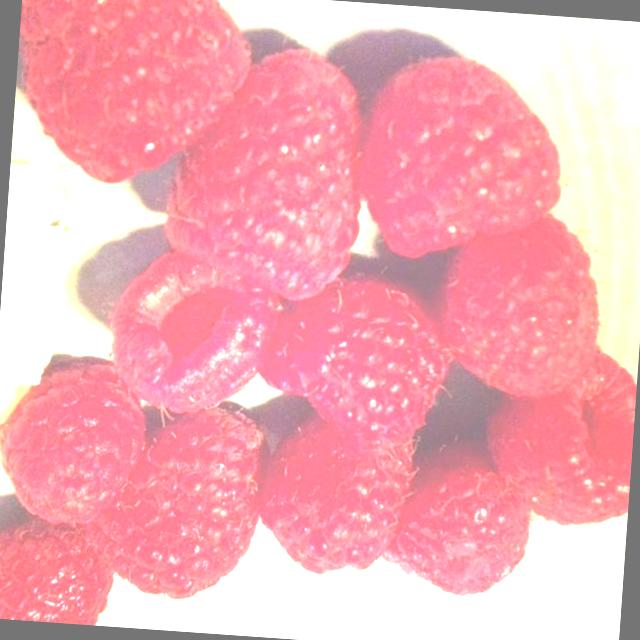Strawberry: (159, 38, 372, 306), (350, 49, 570, 269), (9, 0, 254, 194), (250, 267, 457, 470), (92, 396, 270, 607), (428, 206, 607, 403), (103, 248, 285, 422), (479, 343, 638, 531), (251, 409, 417, 582), (378, 434, 536, 602), (0, 354, 150, 530), (0, 513, 117, 626)
